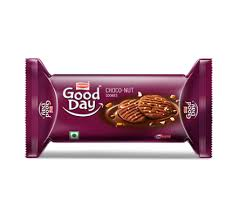gooday-small-choco: (22, 56, 207, 151)
